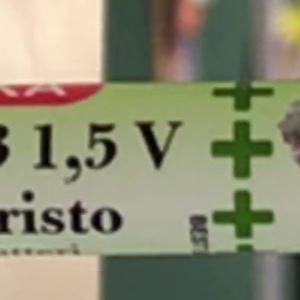ALK: (24, 111, 193, 179)
